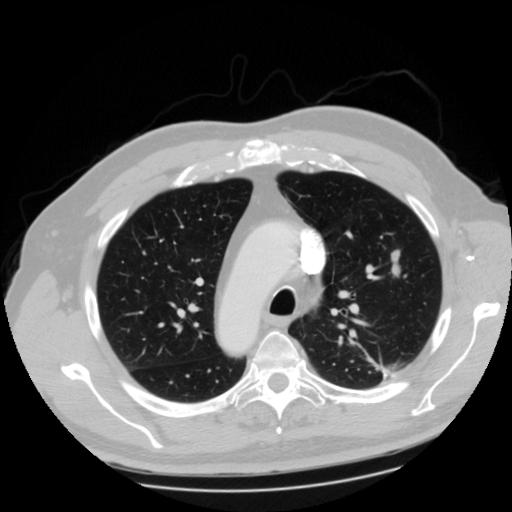nodule: (388, 255, 408, 275)
